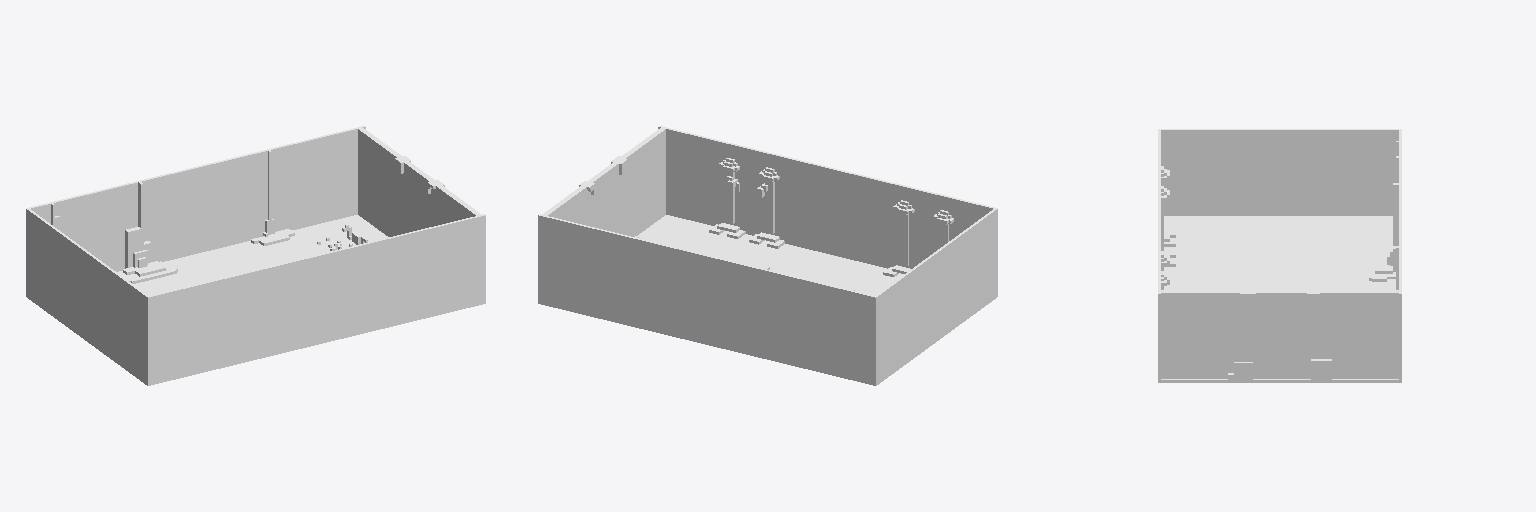
Rendered from hell_room.obj.
3 views of the same model, side by side, from view 1: azimuth 30°, elevation 25°; view 2: azimuth 150°, elevation 25°; view 3: azimuth 270°, elevation 25° (orthographic).
Parts seen in each view (by area): view 1: object 1; view 2: object 1; view 3: object 1.
Boxes of the visible parts, x1,y1,x2,y2 form: object 1: [26, 126, 485, 385]; object 1: [538, 126, 997, 385]; object 1: [1158, 129, 1401, 382].
Size of the model in its own units: 12.8 by 3.2 by 8.